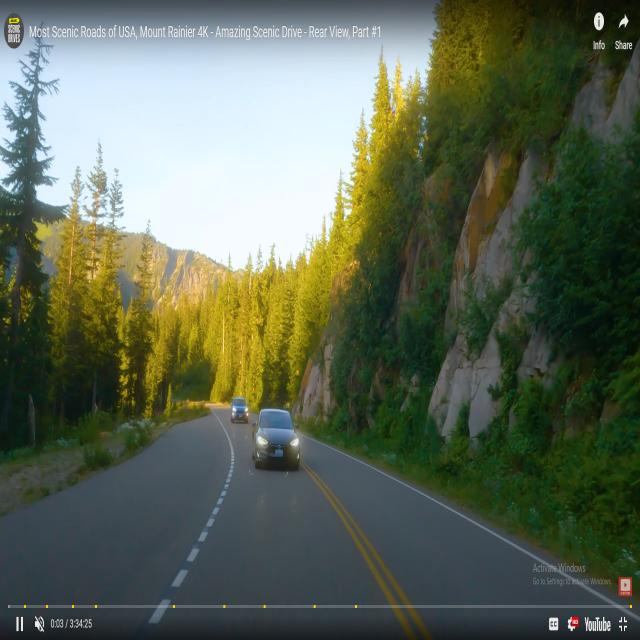headlights: (254, 428, 303, 462), (231, 402, 250, 422)
